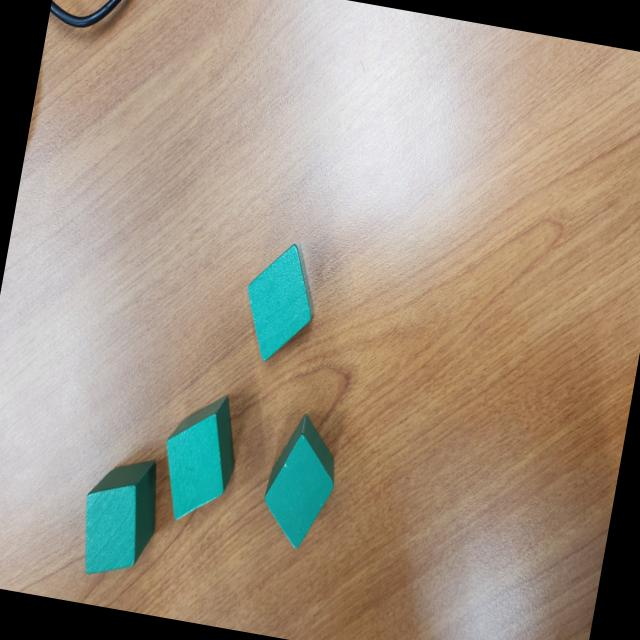green: (152, 384, 248, 529), (256, 409, 346, 553), (72, 450, 166, 584), (234, 236, 324, 368)
